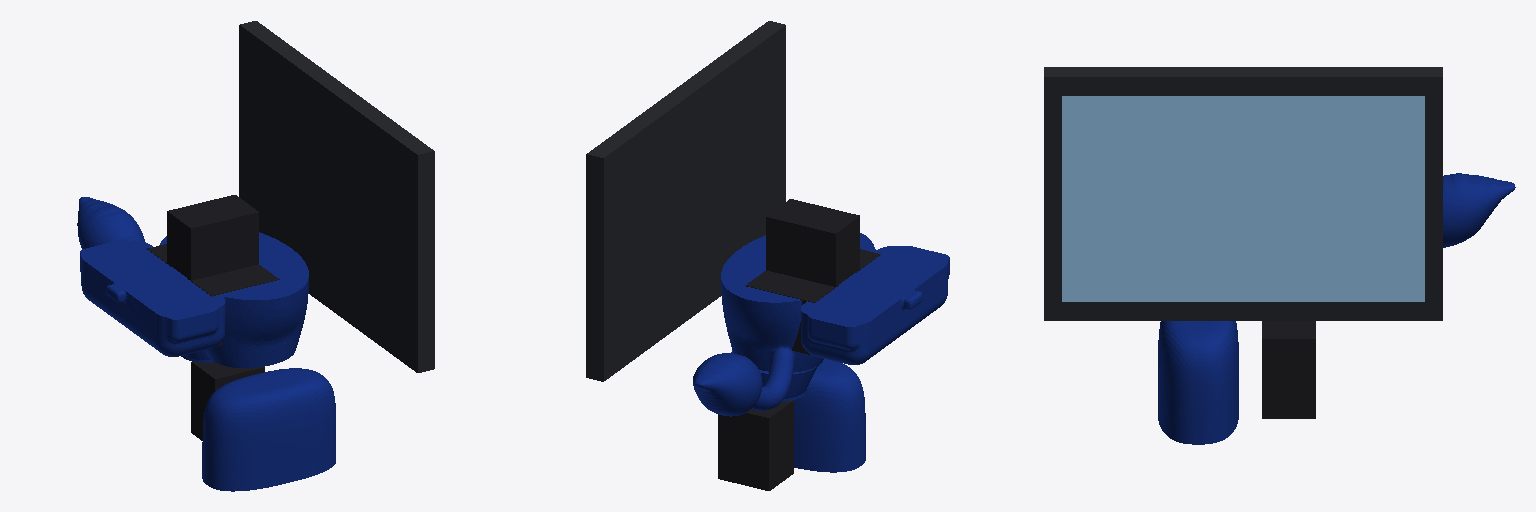
robot.urdf — haetburi:
<?xml version="1.0"?>
<!-- Haetburi biped (v9_yaw_roll_display) - generated by tools/build_model.py, do not edit by hand -->
<robot name="haetburi">
  <mujoco>
    <compiler meshdir="." balanceinertia="true" discardvisual="false" strippath="false" fusestatic="false"/>
  </mujoco>
  <material name="display"><color rgba="0.18 0.19 0.21 1"/></material>
  <material name="screen"><color rgba="0.62 0.80 0.95 1"/></material>
  <material name="shell"><color rgba="0.106 0.216 0.541 1"/></material>
  <material name="motor"><color rgba="0.15 0.15 0.17 1"/></material>
  <material name="foot"><color rgba="0.25 0.25 0.28 1"/></material>
  <link name="world"/>
  <joint name="floating_base" type="floating">
    <parent link="world"/><child link="pelvis"/>
    <origin xyz="0 0 0" rpy="0 0 0"/>
  </joint>
  <link name="pelvis">
    <inertial>
      <origin xyz="0.00518639 0.00514494 0.0223867" rpy="0 0 0"/>
      <mass value="0.656009"/>
      <inertia ixx="0.000681809" ixy="8.60667e-05" ixz="1.16782e-05" iyy="0.000531301" iyz="1.12588e-05" izz="0.00103867"/>
    </inertial>
    <visual><origin xyz="0 0 0" rpy="0 0 0"/><geometry><mesh filename="meshes/pelvis.stl"/></geometry><material name="shell"/></visual>
    <visual><origin xyz="-0.012 0.0239394 0.0325" rpy="0 0 0"/><geometry><box size="0.0465 0.0285 0.034"/></geometry><material name="motor"/></visual>
    <visual><origin xyz="-0.012 -0.0239394 0.0325" rpy="0 0 0"/><geometry><box size="0.0465 0.0285 0.034"/></geometry><material name="motor"/></visual>
    <collision><origin xyz="-0.021074 3.58804e-05 0.0200721" rpy="0 0 0"/><geometry><box size="0.121075 0.119859 0.0581892"/></geometry></collision>
  </link>
  <link name="torso">
    <inertial>
      <origin xyz="0.0162408 0.000358468 0.120254" rpy="0 0 0"/>
      <mass value="2.15423"/>
      <inertia ixx="0.0371033" ixy="2.54441e-05" ixz="0.00634087" iyy="0.0355679" iyz="-1.06901e-05" izz="0.0178337"/>
    </inertial>
    <visual><origin xyz="0 0 0" rpy="0 0 0"/><geometry><mesh filename="meshes/torso.stl"/></geometry><material name="shell"/></visual>
    <visual><origin xyz="-0.012 0 0.0175" rpy="0 0 0"/><geometry><box size="0.0465 0.0285 0.034"/></geometry><material name="motor"/></visual>
    <visual><origin xyz="0.0723613 0 0.0243272" rpy="0 0 0"/><geometry><box size="0.0115 0.2105 0.1423"/></geometry><material name="display"/></visual>
    <visual><origin xyz="0.0781113 0 0.0243272" rpy="0 0 0"/><geometry><box size="0.0004 0.192 0.12"/></geometry><material name="screen"/></visual>
    <collision><origin xyz="-0.0221864 5.2166e-06 0.0316642" rpy="0 0 0"/><geometry><box size="0.122843 0.119977 0.0633283"/></geometry></collision>
    <collision><origin xyz="0.0385902 0.0915483 0.0381325" rpy="0 0 0"/><geometry><sphere radius="0.0579507"/></geometry></collision>
    <collision><origin xyz="0.0386898 -0.0915509 0.0316598" rpy="0 0 0"/><geometry><sphere radius="0.0618705"/></geometry></collision>
    <collision><origin xyz="-0.000345439 0.00125387 0.0927765" rpy="0 0 0"/><geometry><sphere radius="0.123215"/></geometry></collision>
    <collision><origin xyz="-0.00629357 0.00119689 0.151662" rpy="0 0 0"/><geometry><sphere radius="0.13801"/></geometry></collision>
    <collision><origin xyz="-0.0101044 0.000763982 0.210555" rpy="0 0 0"/><geometry><sphere radius="0.13749"/></geometry></collision>
    <collision><origin xyz="-0.0141337 -0.000964858 0.269446" rpy="0 0 0"/><geometry><sphere radius="0.12172"/></geometry></collision>
    <collision><origin xyz="-0.0219239 0.00343006 0.32832" rpy="0 0 0"/><geometry><sphere radius="0.0904228"/></geometry></collision>
    <collision><origin xyz="-0.0278985 -0.00418543 0.387235" rpy="0 0 0"/><geometry><sphere radius="0.0569478"/></geometry></collision>
    <collision><origin xyz="0.0723613 0 0.0243272" rpy="0 0 0"/><geometry><box size="0.0115 0.2105 0.1423"/></geometry></collision>
  </link>
  <link name="leg_l">
    <inertial>
      <origin xyz="-2.7965e-07 6.1146e-05 -0.0349076" rpy="0 0 0"/>
      <mass value="0.0671071"/>
      <inertia ixx="3.13921e-05" ixy="-7.99898e-08" ixz="7.26039e-10" iyy="2.73147e-05" iyz="-4.96062e-08" izz="1.42689e-05"/>
    </inertial>
    <visual><origin xyz="0 0 0" rpy="0 0 0"/><geometry><mesh filename="meshes/leg_l.stl"/></geometry><material name="shell"/></visual>
    <collision><origin xyz="-1.21058e-05 -0.000511704 -0.00958333" rpy="0 0 0"/><geometry><box size="0.0539572 0.0428672 0.0191667"/></geometry></collision>
  </link>
  <link name="foot_l">
    <inertial>
      <origin xyz="0.0123099 -3.39254e-18 0.00922824" rpy="0 0 0"/>
      <mass value="0.150442"/>
      <inertia ixx="7.33282e-05" ixy="9.62385e-08" ixz="7.92723e-08" iyy="0.000106099" iyz="1.5807e-21" izz="7.54021e-05"/>
    </inertial>
    <visual><origin xyz="0 0 0" rpy="0 0 0"/><geometry><mesh filename="meshes/foot_l.stl"/></geometry><material name="shell"/></visual>
    <visual><origin xyz="0.012 0 0.012" rpy="0 0 0"/><geometry><box size="0.034 0.0285 0.0465"/></geometry><material name="motor"/></visual>
    <collision><origin xyz="0 0 0" rpy="0 0 0"/><geometry><mesh filename="meshes/foot_l.stl"/></geometry></collision>
  </link>
  <link name="leg_r">
    <inertial>
      <origin xyz="4.10056e-07 -5.89451e-05 -0.0349279" rpy="0 0 0"/>
      <mass value="0.0670574"/>
      <inertia ixx="3.1306e-05" ixy="-8.72225e-08" ixz="-1.3692e-09" iyy="2.72736e-05" iyz="4.88413e-08" izz="1.42158e-05"/>
    </inertial>
    <visual><origin xyz="0 0 0" rpy="0 0 0"/><geometry><mesh filename="meshes/leg_r.stl"/></geometry><material name="shell"/></visual>
    <collision><origin xyz="2.98055e-06 0.000513283 -0.00958333" rpy="0 0 0"/><geometry><box size="0.0539035 0.0424709 0.0191667"/></geometry></collision>
  </link>
  <link name="foot_r">
    <inertial>
      <origin xyz="0.0123099 3.43758e-18 0.00922824" rpy="0 0 0"/>
      <mass value="0.150442"/>
      <inertia ixx="7.33282e-05" ixy="-9.62385e-08" ixz="7.92723e-08" iyy="0.000106099" iyz="-1.27983e-21" izz="7.54021e-05"/>
    </inertial>
    <visual><origin xyz="0 0 0" rpy="0 0 0"/><geometry><mesh filename="meshes/foot_r.stl"/></geometry><material name="shell"/></visual>
    <visual><origin xyz="0.012 -0 0.012" rpy="0 0 0"/><geometry><box size="0.034 0.0285 0.0465"/></geometry><material name="motor"/></visual>
    <collision><origin xyz="0 0 0" rpy="0 0 0"/><geometry><mesh filename="meshes/foot_r.stl"/></geometry></collision>
  </link>
  <joint name="waist_yaw" type="revolute">
    <parent link="pelvis"/><child link="torso"/>
    <origin xyz="0 0 0.0491667" rpy="0 0 0"/>
    <axis xyz="0 0 1"/>
    <limit lower="-1.0472" upper="1.0472" effort="1.4" velocity="5.97"/>
    <dynamics damping="0.1" friction="0.04"/>
  </joint>
  <joint name="hip_yaw_l" type="revolute">
    <parent link="pelvis"/><child link="leg_l"/>
    <origin xyz="0 0.0239394 0" rpy="0 0 0"/>
    <axis xyz="0 0 1"/>
    <limit lower="-0.523599" upper="0.523599" effort="1.4" velocity="5.97"/>
    <dynamics damping="0.1" friction="0.04"/>
  </joint>
  <joint name="hip_yaw_r" type="revolute">
    <parent link="pelvis"/><child link="leg_r"/>
    <origin xyz="0 -0.0239394 0" rpy="0 0 0"/>
    <axis xyz="0 0 1"/>
    <limit lower="-0.523599" upper="0.523599" effort="1.4" velocity="5.97"/>
    <dynamics damping="0.1" friction="0.04"/>
  </joint>
  <joint name="ankle_roll_l" type="revolute">
    <parent link="leg_l"/><child link="foot_l"/>
    <origin xyz="0 0 -0.0664167" rpy="0 0 0"/>
    <axis xyz="1 0 0"/>
    <limit lower="-0.261799" upper="0.261799" effort="1.4" velocity="5.97"/>
    <dynamics damping="0.1" friction="0.04"/>
  </joint>
  <joint name="ankle_roll_r" type="revolute">
    <parent link="leg_r"/><child link="foot_r"/>
    <origin xyz="0 0 -0.0664167" rpy="0 0 0"/>
    <axis xyz="1 0 0"/>
    <limit lower="-0.261799" upper="0.261799" effort="1.4" velocity="5.97"/>
    <dynamics damping="0.1" friction="0.04"/>
  </joint>
</robot>

--- Facts derived from the render (not from the file) ---
The picture shows the robot from 3 angles, left to right: view 1: azimuth 30°, elevation 25°; view 2: azimuth 150°, elevation 25°; view 3: azimuth 270°, elevation 25°; orthographic projection.
Model haetburi with 7 links and 6 joints (5 revolute, 1 floating), rooted at world, posed all joints at 0.
Visible links, largest first — view 1: torso, pelvis, foot_r, foot_l; view 2: torso, pelvis, foot_r, foot_l, leg_l; view 3: torso, foot_r, foot_l, pelvis.
Link boxes in pixels (x1,y1,x2,y2): torso: [167, 21, 434, 372]; pelvis: [77, 197, 308, 367]; foot_r: [202, 368, 335, 491]; foot_l: [191, 361, 264, 440]; torso: [586, 21, 859, 381]; pelvis: [693, 233, 949, 416]; foot_r: [794, 359, 865, 472]; foot_l: [718, 400, 793, 490]; leg_l: [731, 350, 817, 401]; torso: [1044, 67, 1442, 320]; foot_r: [1158, 321, 1238, 444]; foot_l: [1262, 321, 1315, 418]; pelvis: [1443, 173, 1515, 247].
Size in the robot's own frame: 0.1599 by 0.2488 by 0.2253 metres.
Meshes: 6 distinct files referenced, 3 mesh visuals loaded (3 binary STL); not drawn: 3 (reference not matched to a file when rendering).
